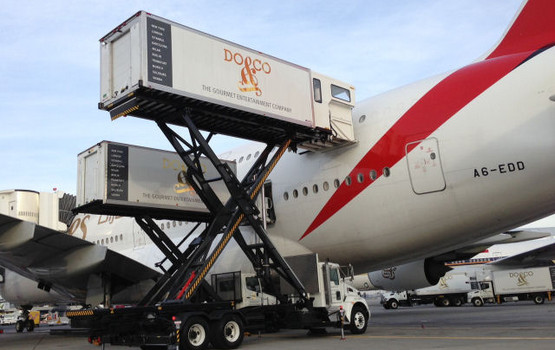Catering truck: (89, 12, 398, 345)
